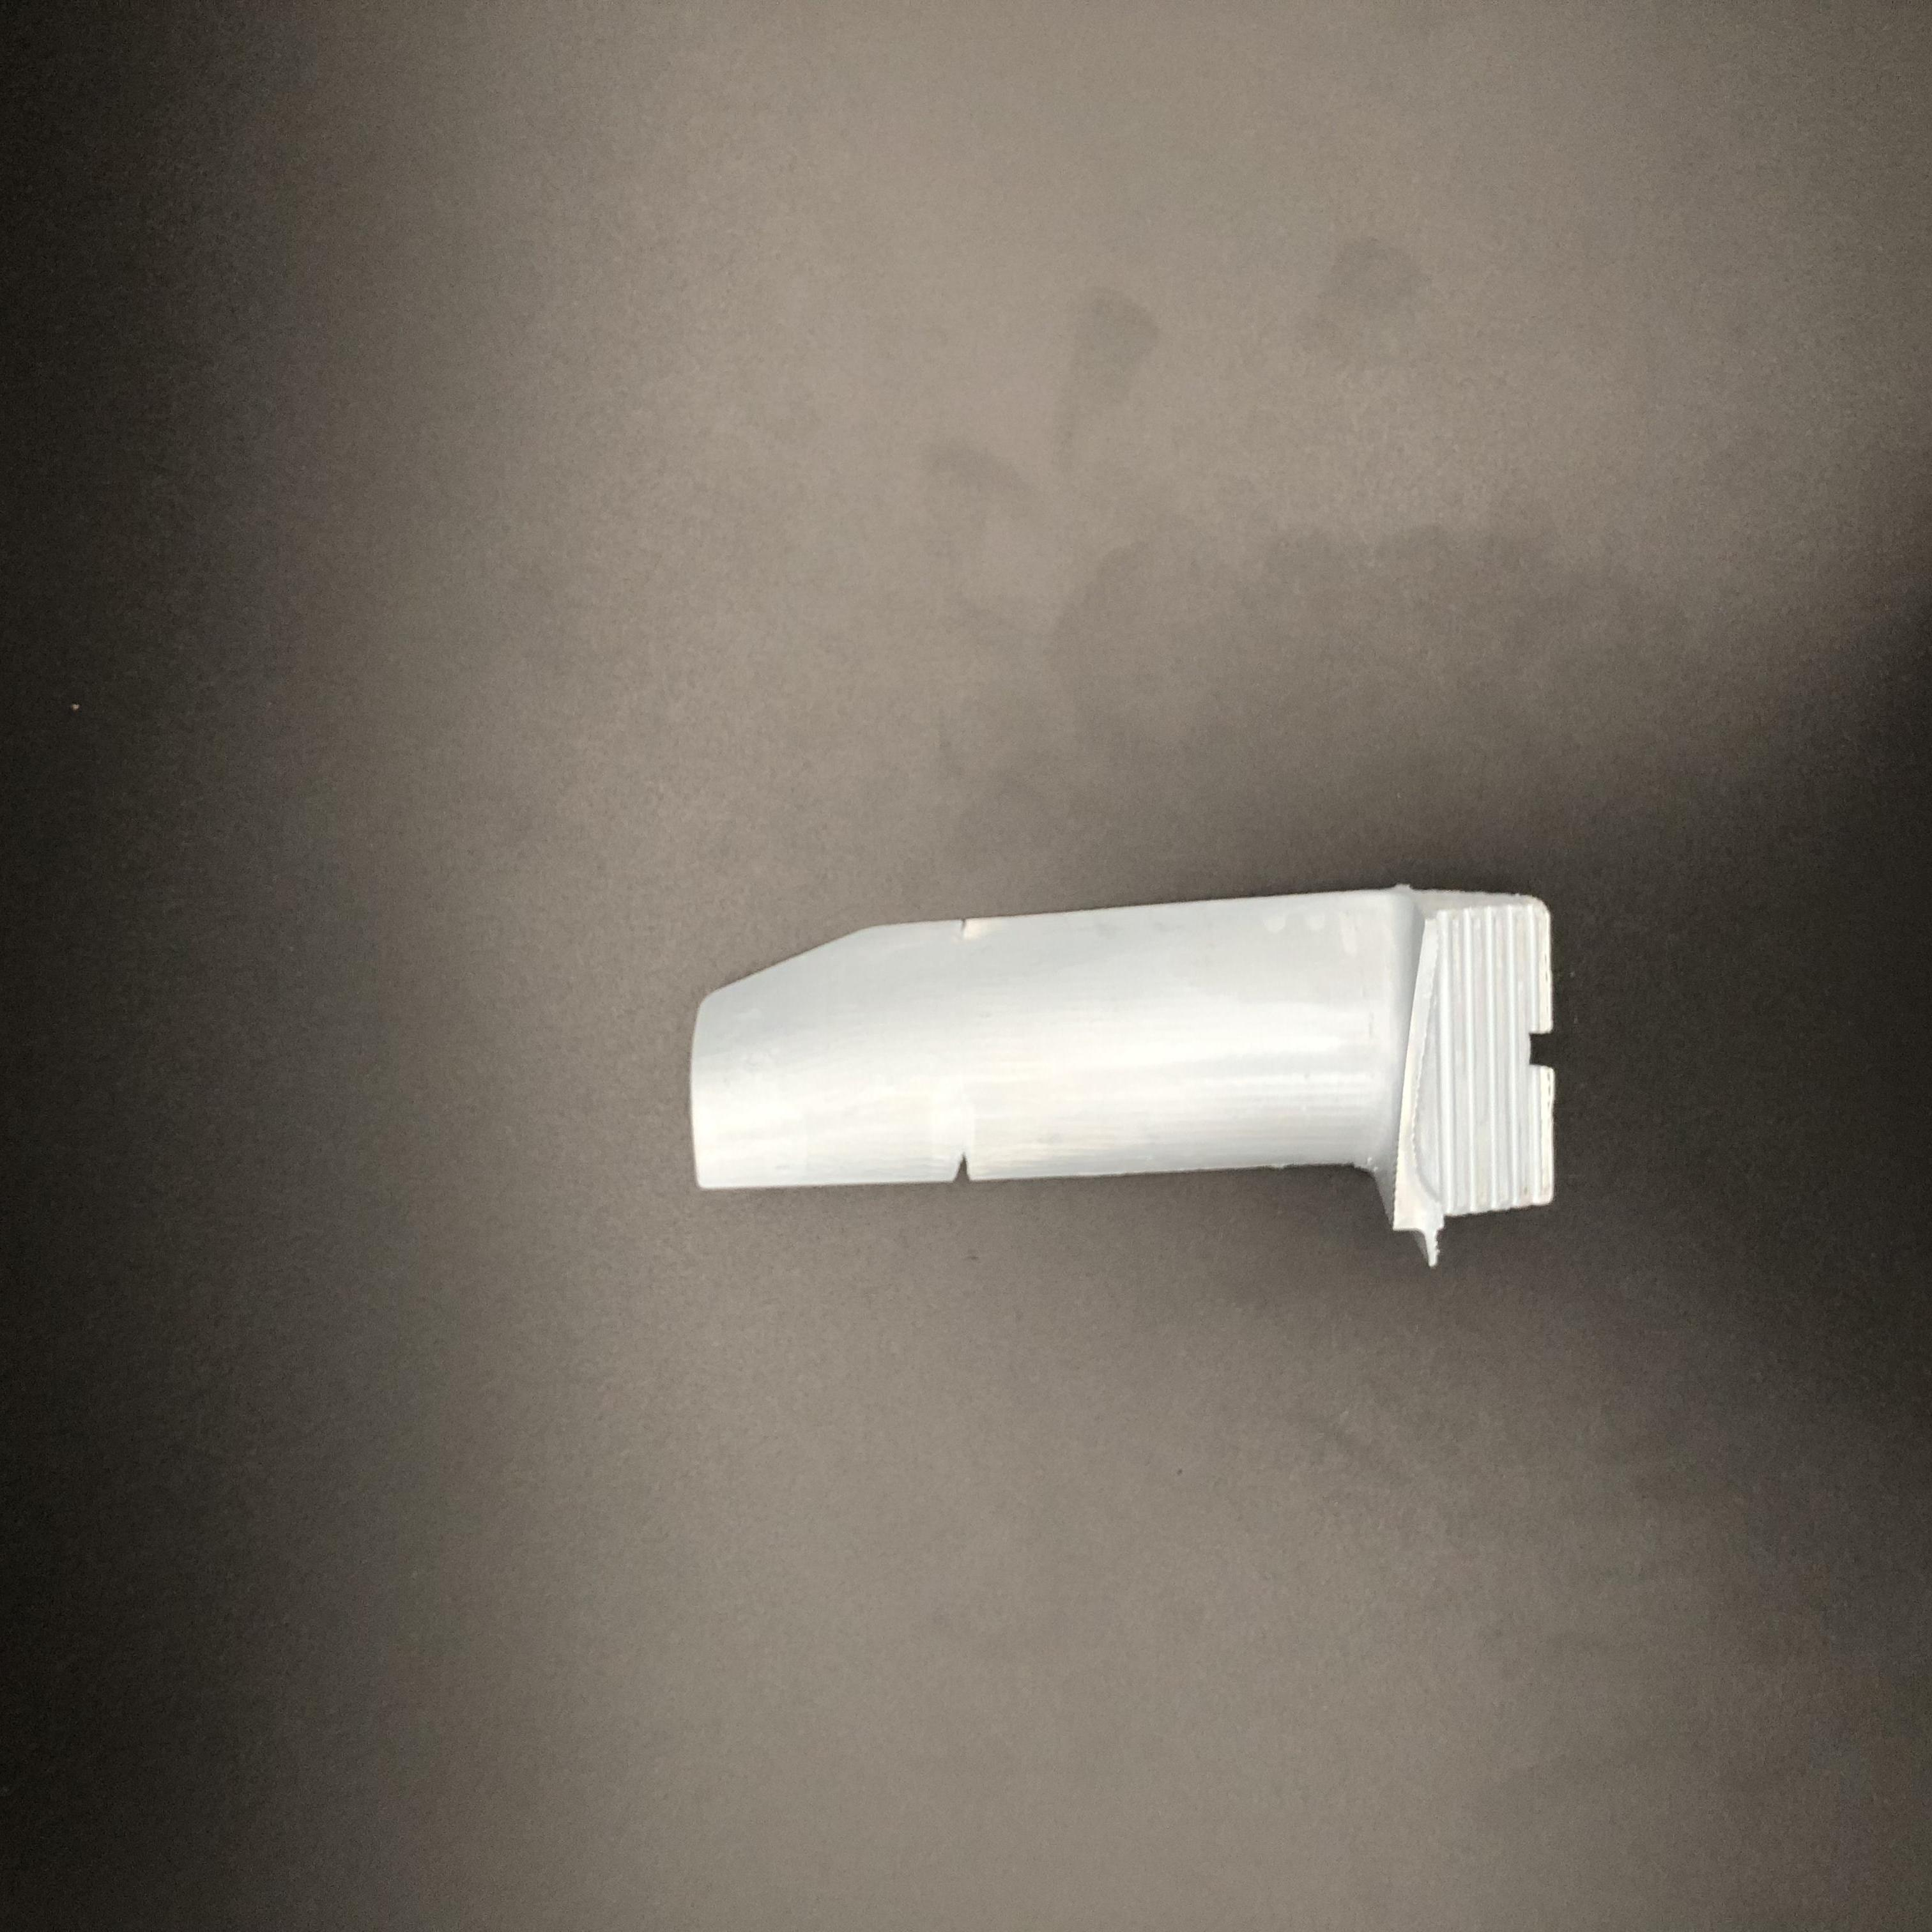groove: (931, 1154, 1001, 1187), (941, 918, 1000, 943)
